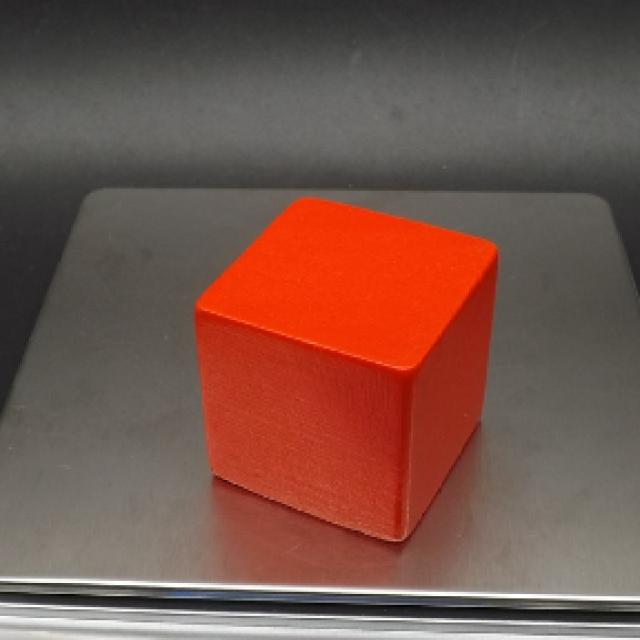red cube: (192, 190, 500, 543)
